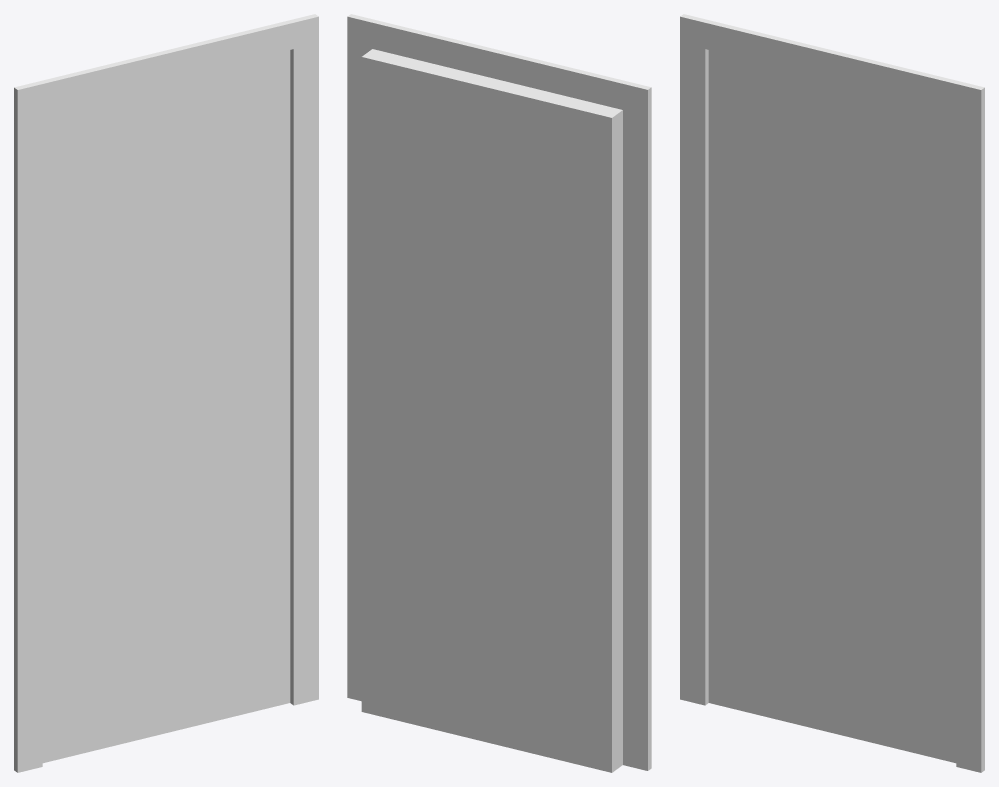
The model's file is door.obj.
3 renders of one model, left to right at view 1: azimuth 30°, elevation 25°; view 2: azimuth 150°, elevation 25°; view 3: azimuth 330°, elevation 25°, orthographic.
Parts seen in each view (by area): view 1: door, door_out; view 2: door, door_out; view 3: door, door_out.
Part boxes in pixels (box(x1,y1,x2,y2)): door: box(42, 50, 290, 763); door_out: box(14, 14, 318, 772); door: box(361, 49, 622, 772); door_out: box(347, 14, 651, 770); door: box(708, 50, 956, 763); door_out: box(680, 14, 984, 772).
Bounding box in the file's own units: 96 × 208 × 8.
1 material, 1 textured.
